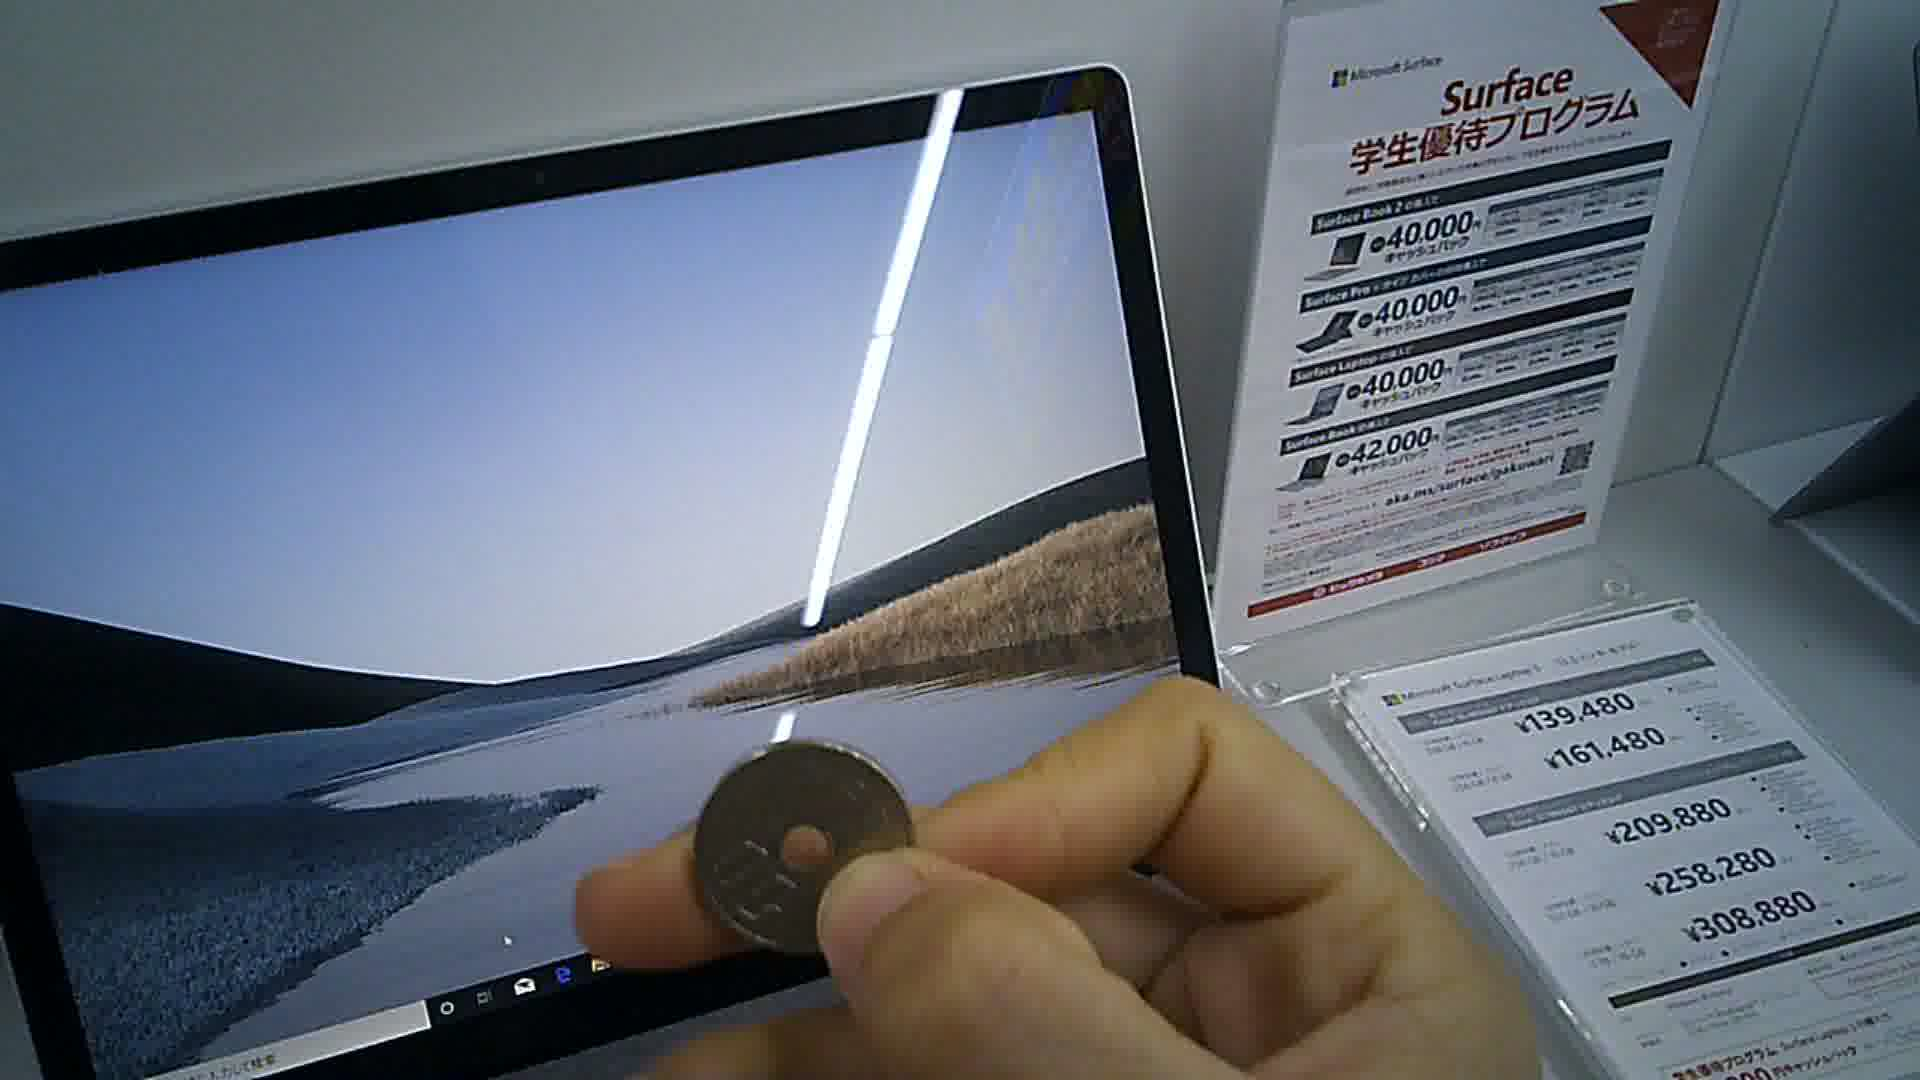50 Yen: (684, 740, 927, 963)
